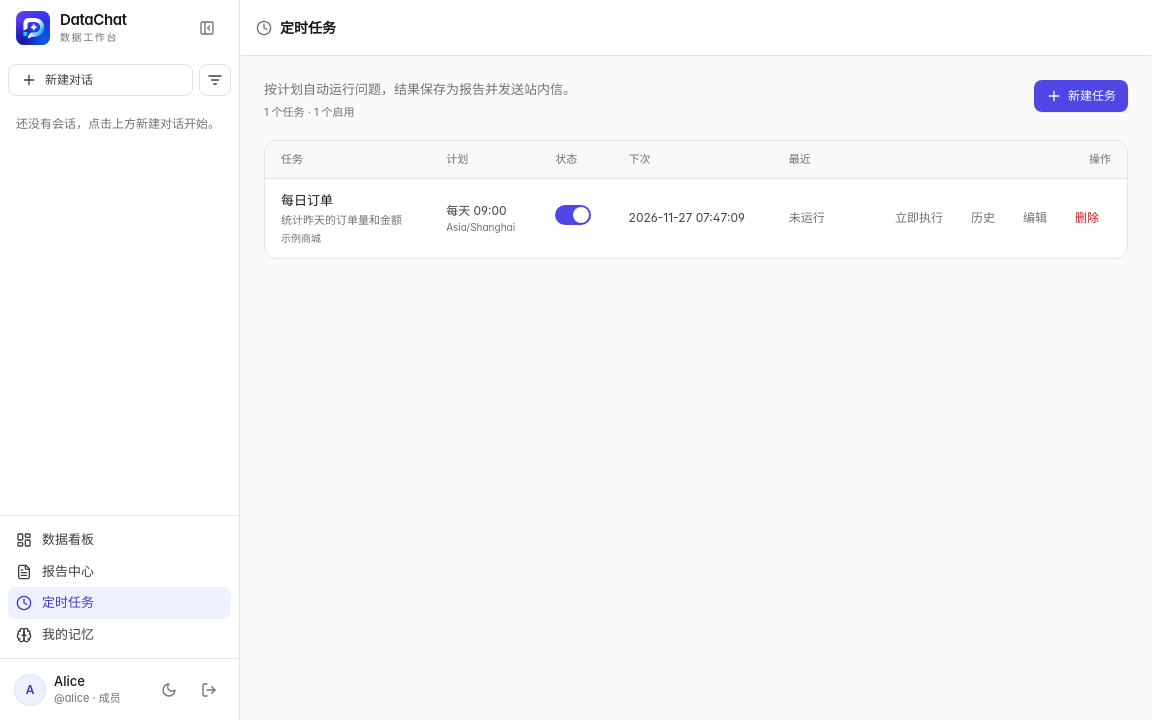
Test: ScheduledTasksPage › runs a task immediately
Expected: the text "每日订单" is shown, x1=281 y1=192 x2=333 y2=208
Click the button "立即执行" at (919, 218), box x1=883 y1=202 x2=955 y2=234
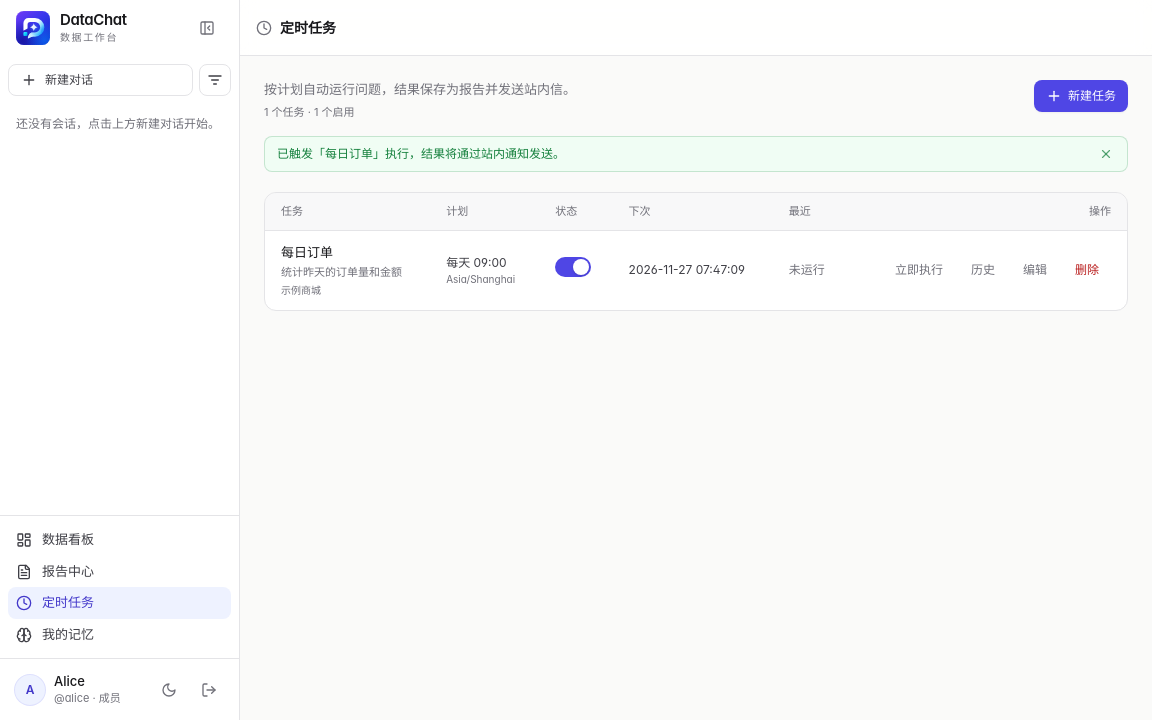
Expected: the text "已触发「每日订单」执行，结果将通过站内通知发送。" is shown, x1=277 y1=145 x2=565 y2=163
